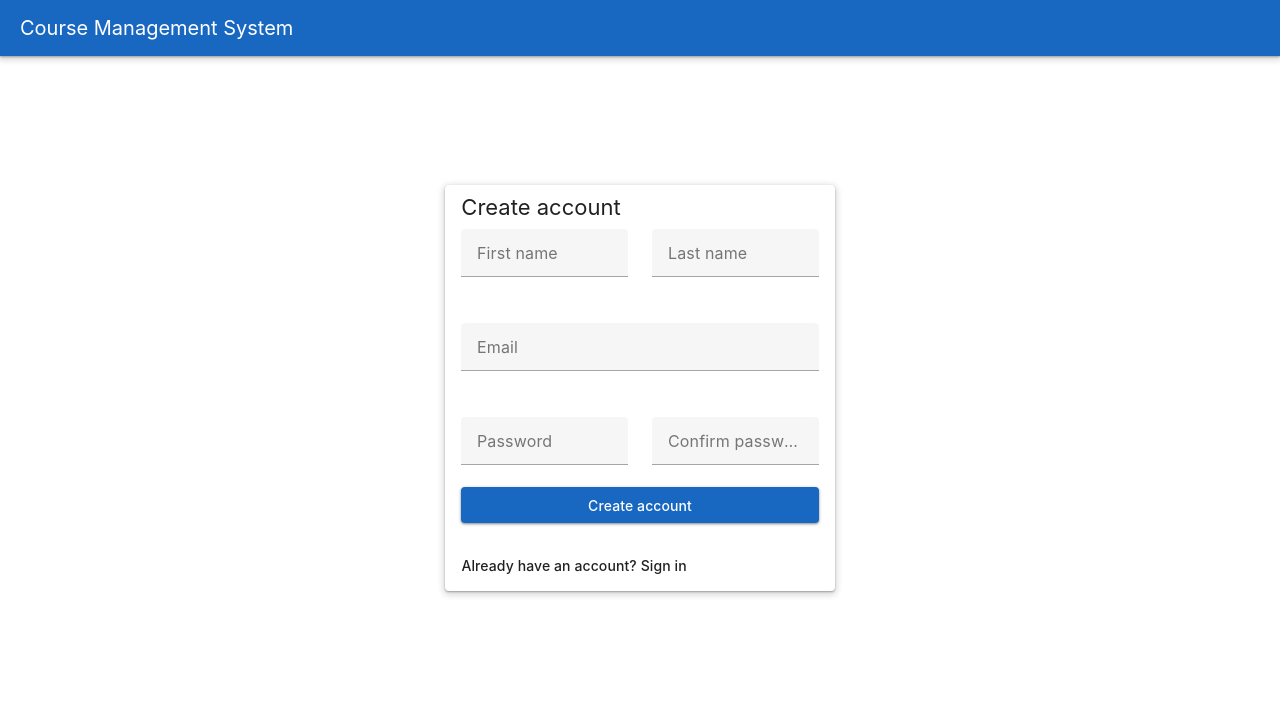
Test: Feature 1 — User Authentication and Session Management UI › US-1.1 — Create account › User registers with a duplicate email
Type "Jane" into the field labelled "First name" at {"x": 545, "y": 253}, box [461,229,628,277]
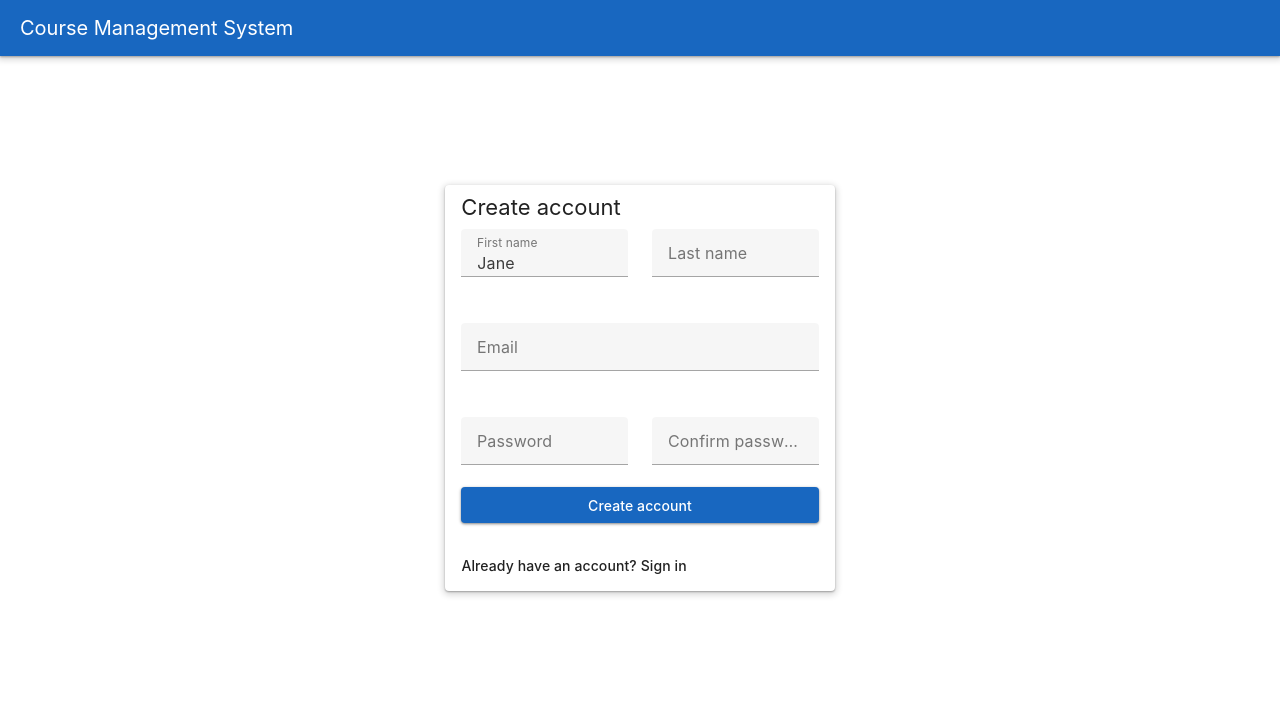
Type "Doe" into the field labelled "Last name" at {"x": 735, "y": 253}, box [652,229,819,277]
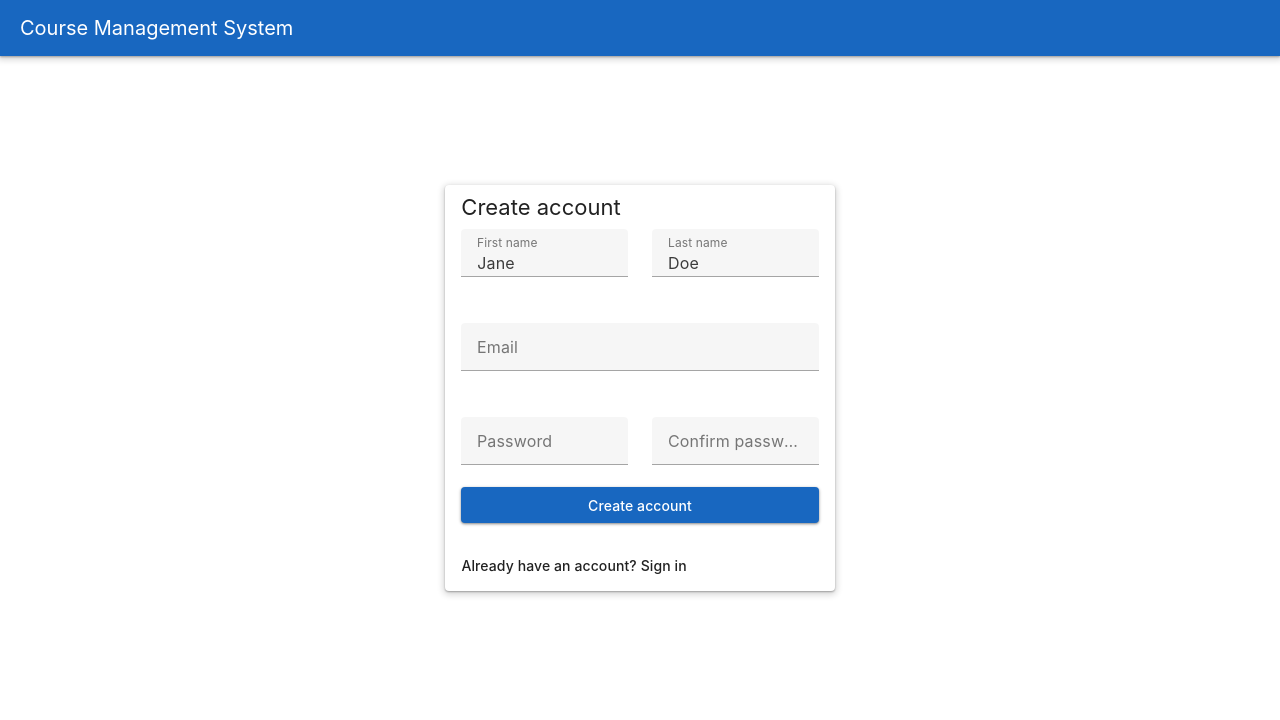
Type "jane@example.com" into the field labelled "Email" at {"x": 640, "y": 347}, box [461,323,819,371]
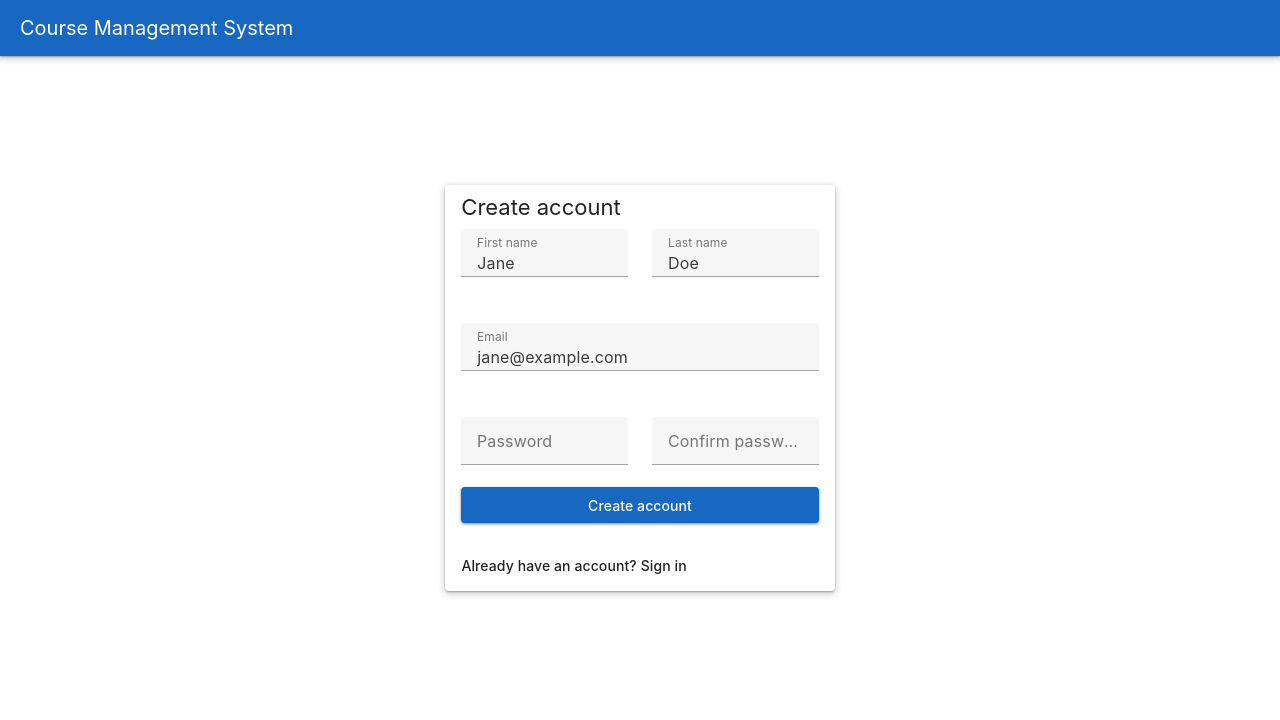
Type "password1" into the password field labelled "Password" at {"x": 545, "y": 441}, box [461,417,628,465]
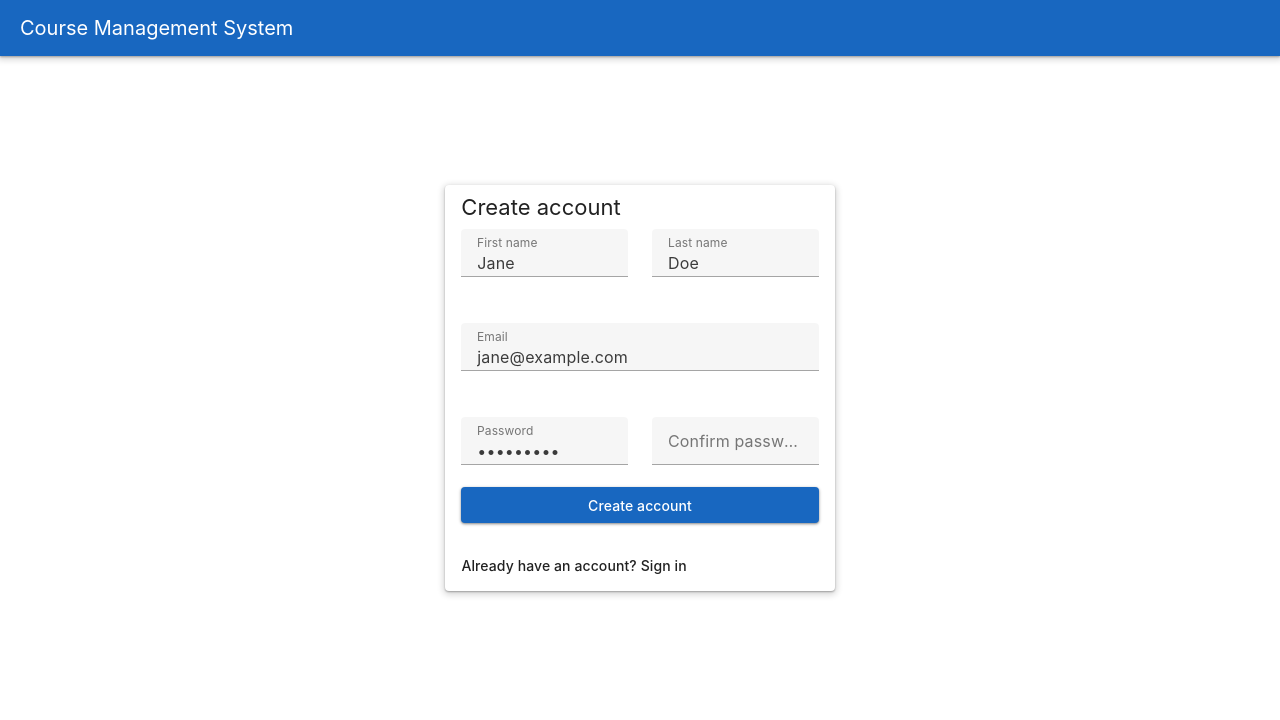
Type "password1" into the password field labelled "Confirm password" at {"x": 735, "y": 441}, box [652,417,819,465]
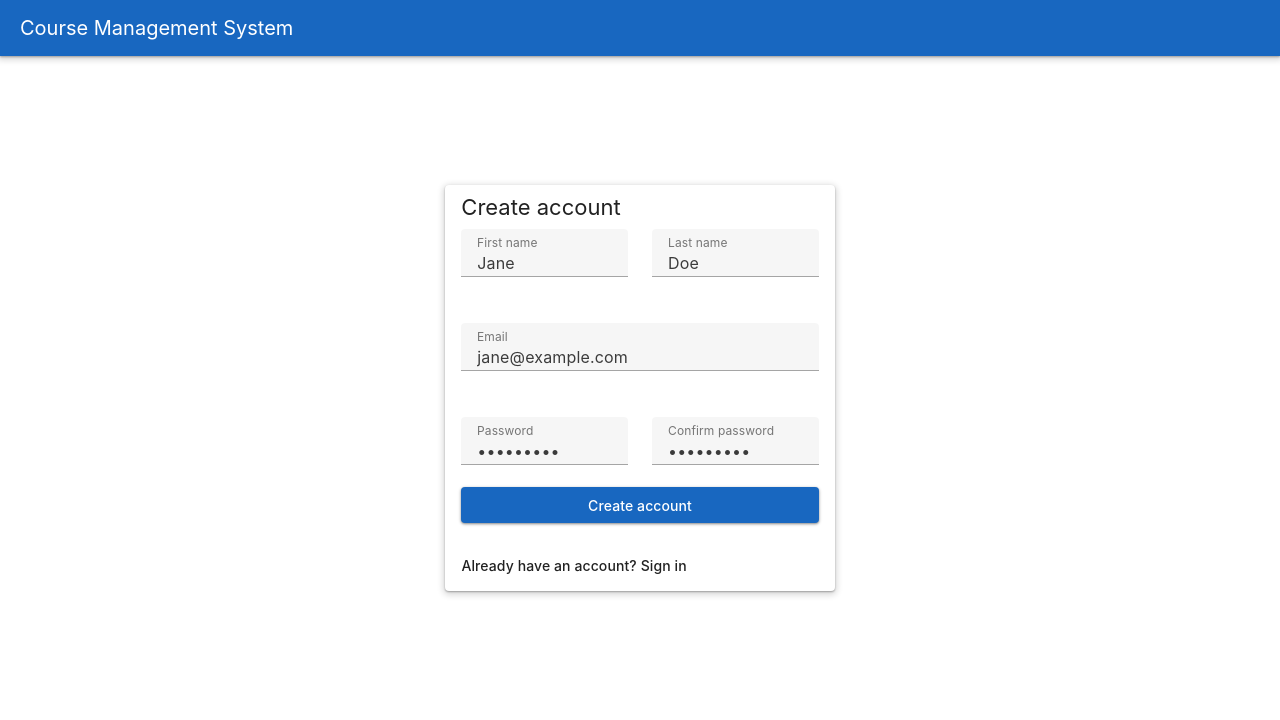
Submit the form, box [461,229,819,523]
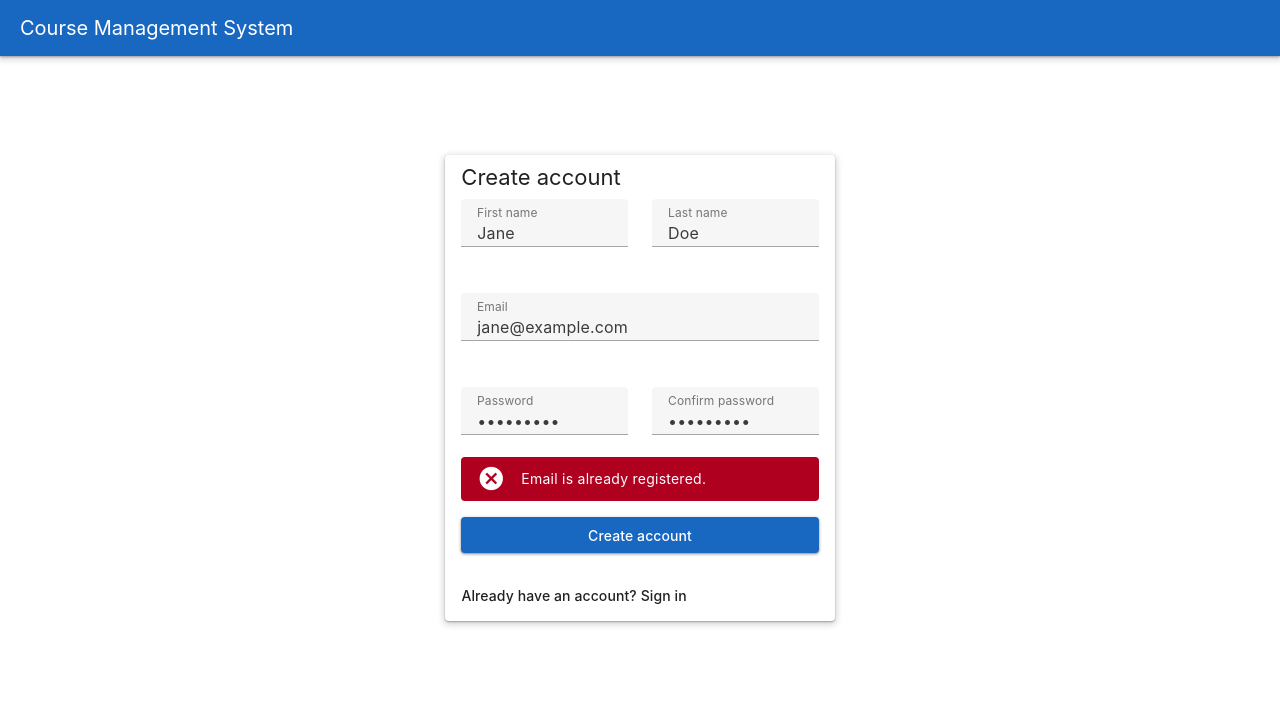
Check: the message "Email is already registered." is shown, box [461,457,819,501]
